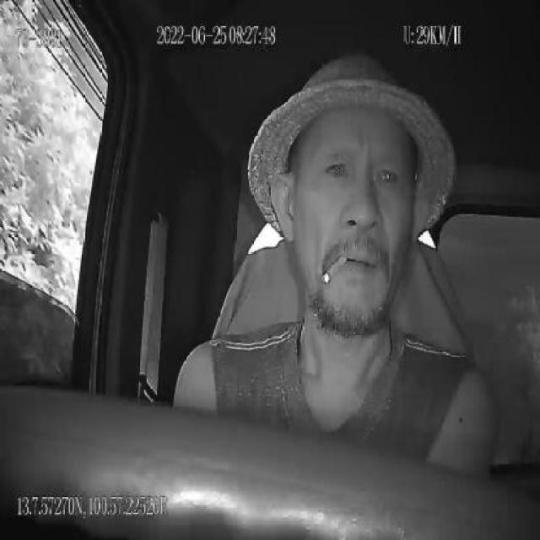smoking: (321, 251, 347, 287)
